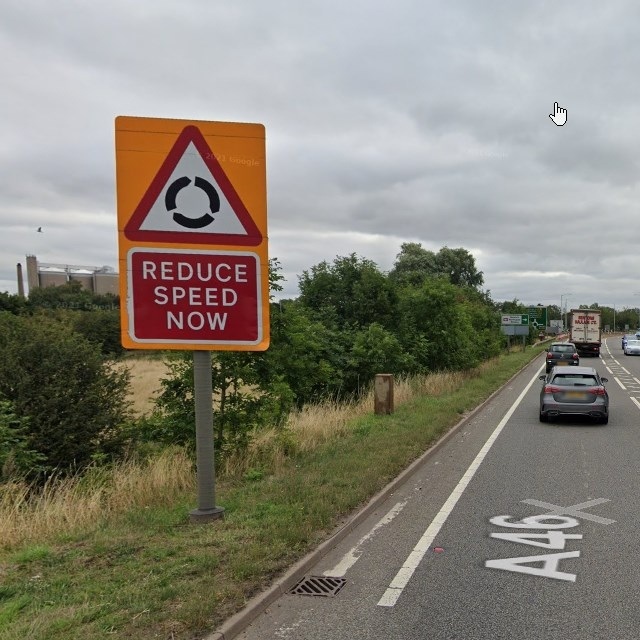Roundabout: (121, 122, 264, 249)
